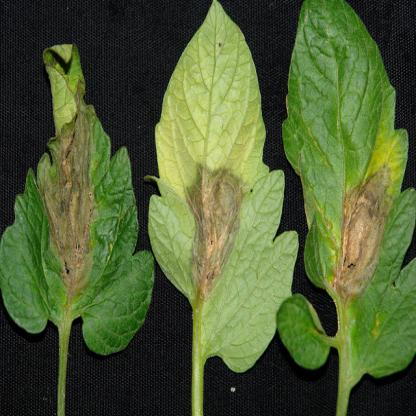Tomato mold leaf: (151, 8, 298, 403), (3, 9, 144, 415), (282, 8, 415, 415)
